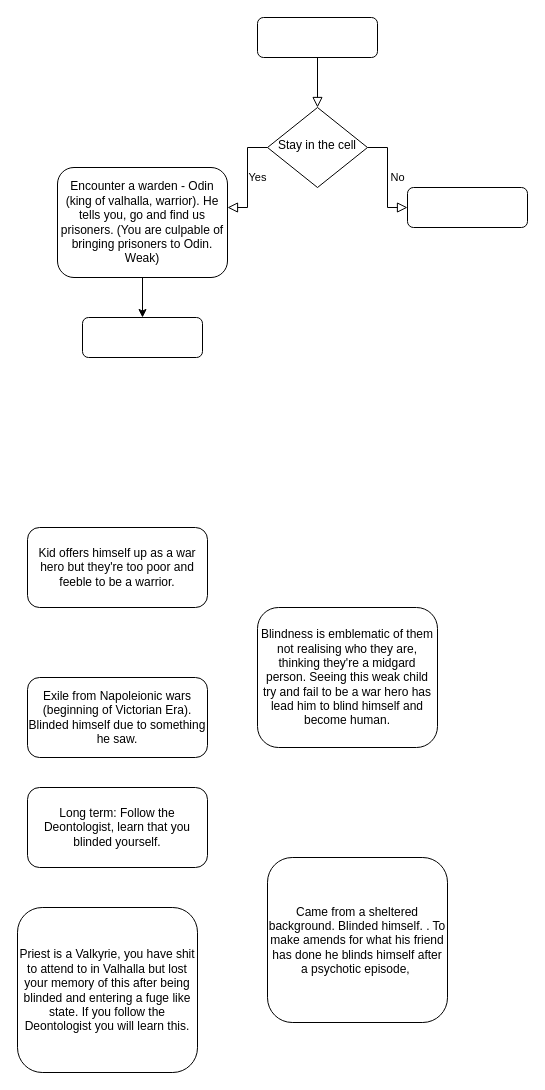
Some shapes in this 545 by 1090 pixel diagram are drawn without their labels. The box of each missing label's shape, as (x1, y1, x2, y2) in pixels:
In the cell: (256, 16, 378, 58)
Oversleep. Wake up later.: (82, 316, 202, 358)
Wake up earlier: (406, 186, 528, 228)
